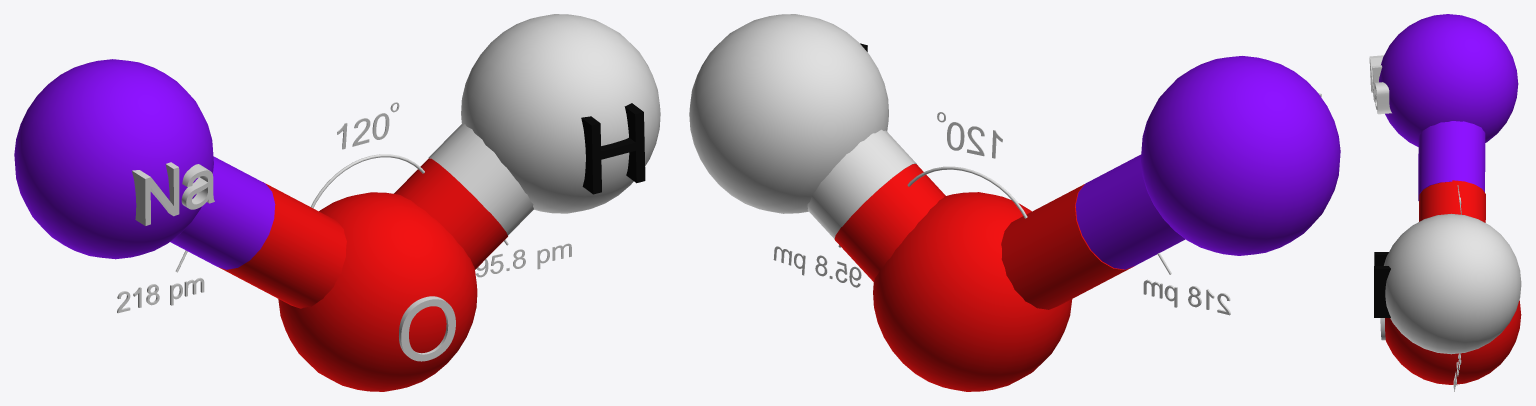
File: sodiumhydroxide.FBX
The picture shows the model from 3 angles, left to right: view 1: azimuth 30°, elevation 25°; view 2: azimuth 150°, elevation 25°; view 3: azimuth 270°, elevation 25°; orthographic projection. The views are drawn at different scales.
Parts seen in each view (by area): view 1: Sphere053, Sphere055, Sphere054, Cylinder106, Cylinder105, Cylinder107, Cylinder108, Text062, Text061, O027, Text066, Text065 (+1 smaller); view 2: Sphere053, Sphere055, Sphere054, Cylinder106, Cylinder105, Cylinder107, Cylinder108, Text066, Text065, Text063; view 3: Sphere055, Sphere053, Sphere054, Cylinder105, Cylinder106, Text062, Text061.
Boxes of the visible parts, x1,y1,x2,y2 form: Sphere053: (14,59,213,259); Sphere055: (461,14,660,213); Sphere054: (278,192,477,391); Cylinder106: (219,182,346,308); Cylinder105: (170,156,275,269); Cylinder107: (394,158,507,269); Cylinder108: (428,124,533,235); Text062: (581,103,645,194); Text061: (132,162,214,225); O027: (399,296,455,361); Text066: (117,277,204,313); Text065: (476,243,571,277); Sphere053: (1141,56,1340,255); Sphere055: (689,14,888,213); Sphere054: (873,192,1072,391); Cylinder106: (1001,184,1134,309); Cylinder105: (1075,154,1185,269); Cylinder107: (834,164,945,281); Cylinder108: (807,129,916,238); Text066: (1143,279,1230,315); Text065: (773,246,861,287); Text063: (947,122,1002,158); Sphere055: (1384,213,1521,354); Sphere053: (1379,14,1518,146); Sphere054: (1385,300,1521,384); Cylinder105: (1418,121,1485,200); Cylinder106: (1419,180,1485,222); Text062: (1374,252,1390,317); Text061: (1369,55,1391,114).
Bounding box in the file's own units: 63.51 × 37.12 × 19.15.
